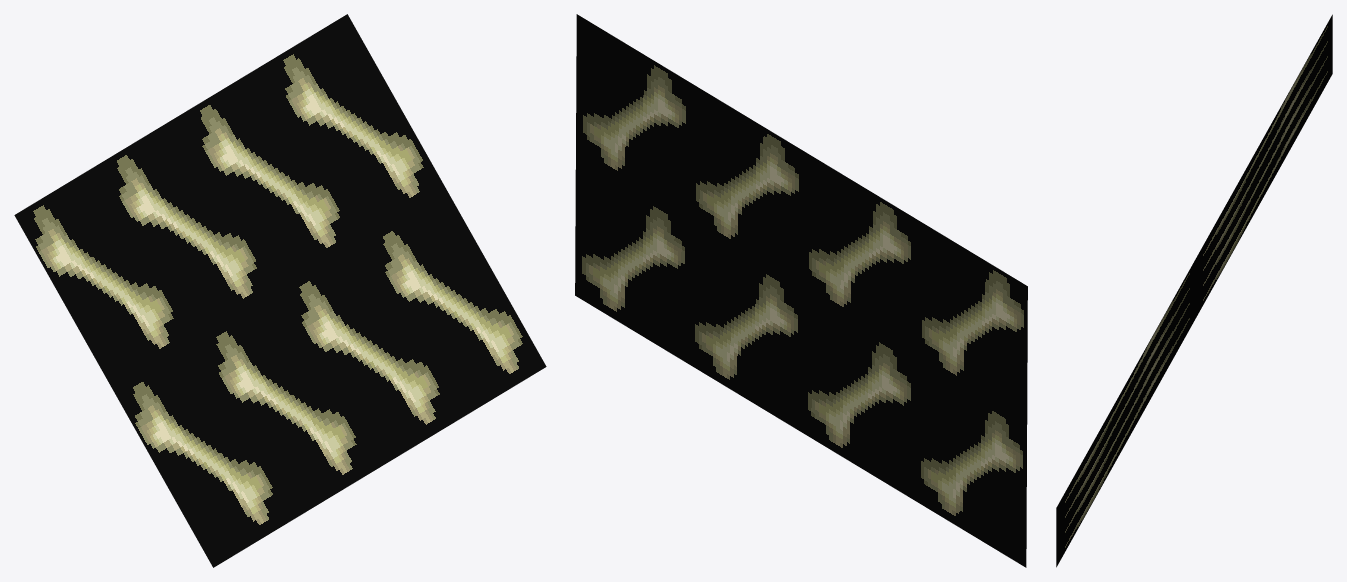
File: icon_empty.gltf
3 renders of one model, left to right at view 1: azimuth 30°, elevation 25°; view 2: azimuth 150°, elevation 25°; view 3: azimuth 270°, elevation 25°, orthographic. The views are drawn at different scales.
Visible parts, largest first — view 1: icon_empty; view 2: icon_empty; view 3: icon_empty.
Boxes of the visible parts, <box> form: icon_empty: <box>14,14,546,567</box>; icon_empty: <box>575,14,1027,567</box>; icon_empty: <box>1056,14,1332,567</box>.
Size of the model in its own units: 0.9792 by 0.917 by 0.3872.
1 material, 1 textured.
